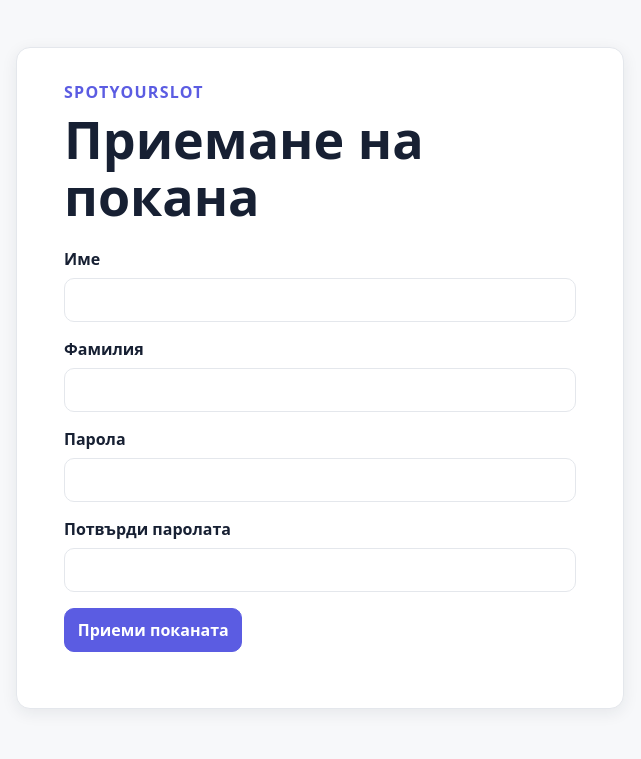
Scenario: identity application › shows one safe actionable message for an invalid invitation
Type "Иван" into the field labelled "Име". click: (320, 300)
box: [64,278,576,322]
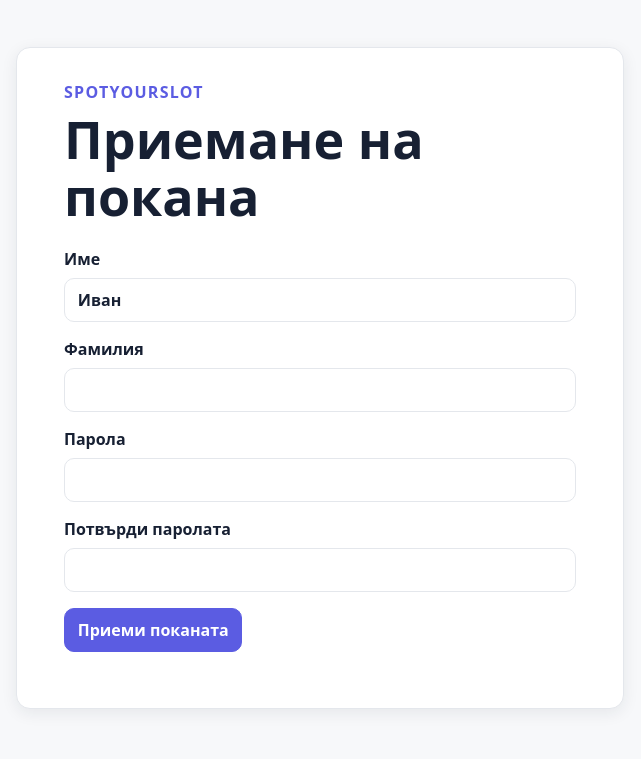
Type "Иванов" into the field labelled "Фамилия". click: (320, 390)
box: [64,368,576,412]
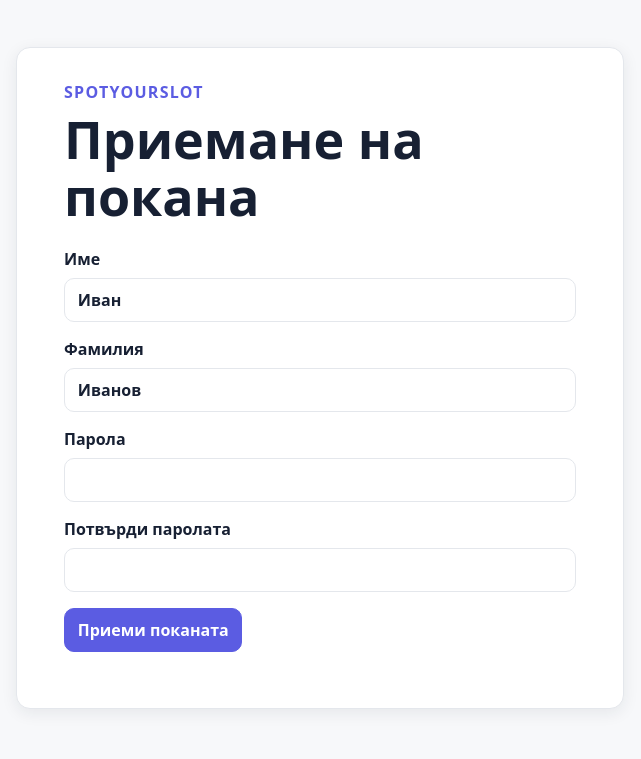
Type "secure passphrase" into the password field labelled "Парола". click: (320, 480)
box: [64,458,576,502]
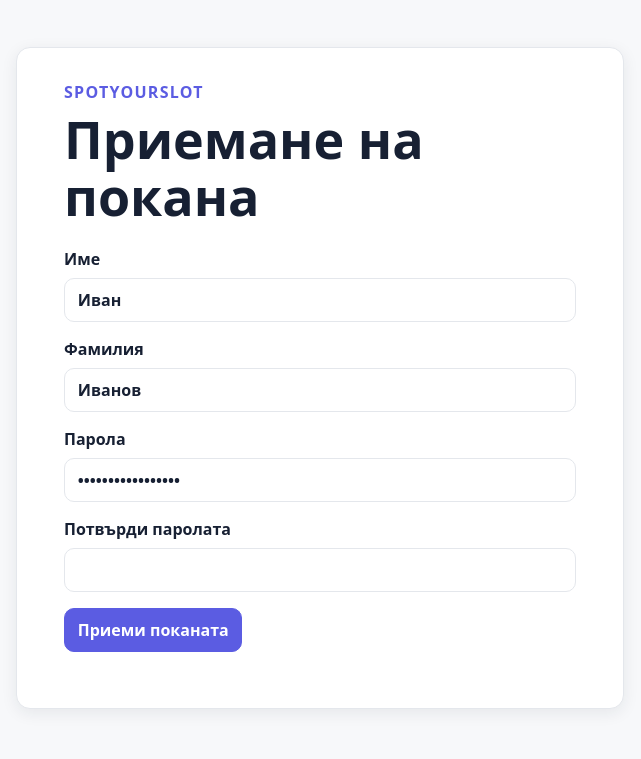
Type "secure passphrase" into the password field labelled "Потвърди паролата". click: (320, 570)
box: [64,548,576,592]
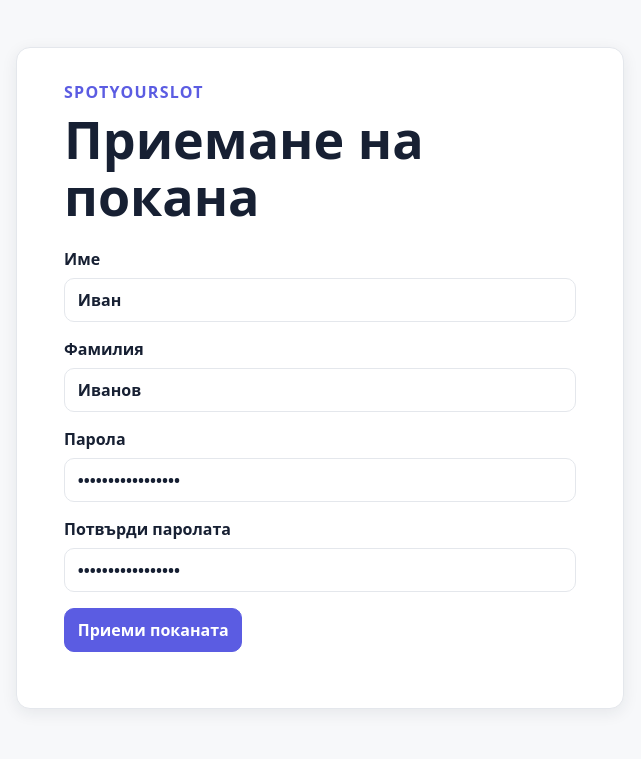
Submit the form "Приеми поканата", box [64,248,576,652]
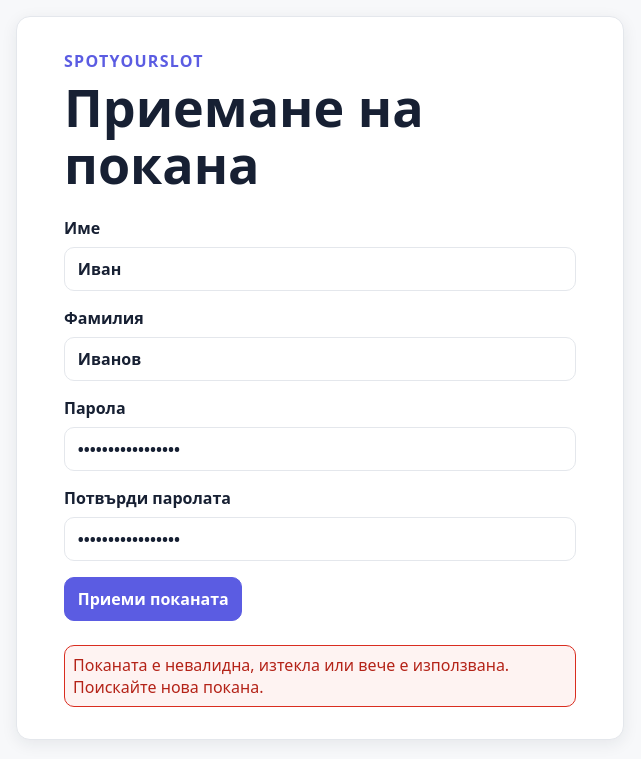
Expected: the message reads "Поканата е невалидна, изтекла или вече е използвана. Поискайте нова покана.", [73,654,509,698]
